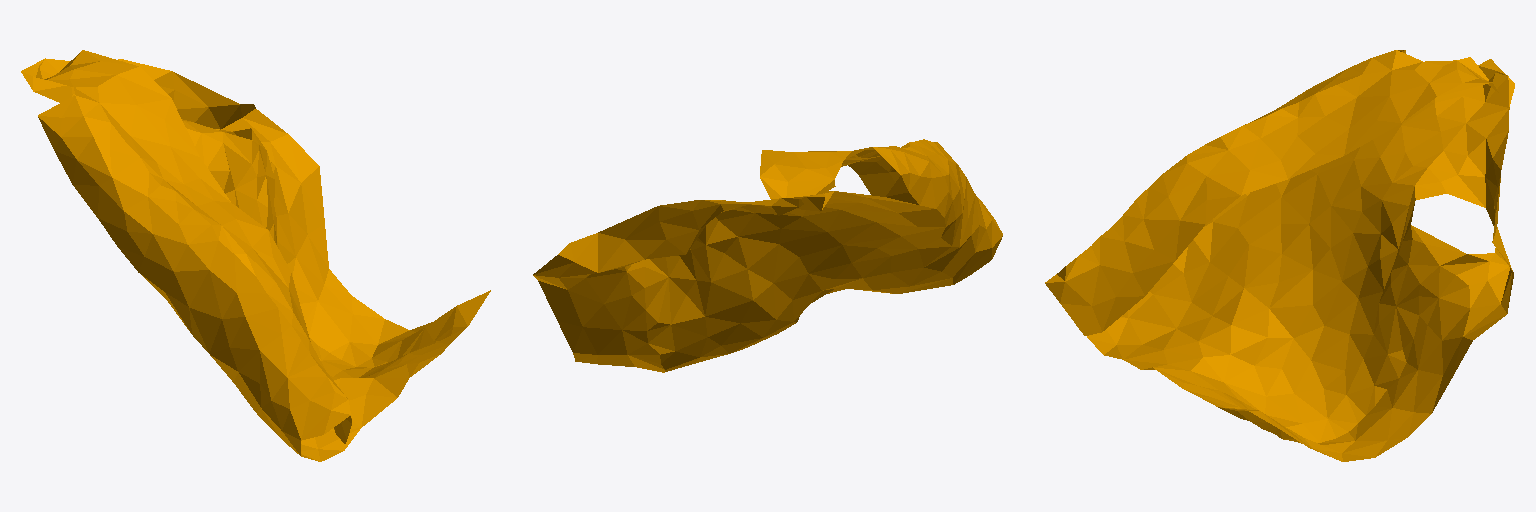
The robot description file, URDF, robot "init":
<?xml version='1.0' encoding='utf-8'?>
<robot name="init">
<link name="link_0"><inertial><mass value="1.0" /><origin rpy="0 0 0" xyz="0.000000 0.000000 0.000000" /><inertia ixx="1.0" ixy="0.0" ixz="0.0" iyy="1.0" iyz="0.0" izz="1.0" /></inertial><visual><origin rpy="0 0 0" xyz="0.000000 0.000000 0.000000" /><geometry><mesh filename="./clothHuman/cloth/1309.obj" /></geometry></visual><collision><origin rpy="0 0 0" xyz="0.000000 0.000000 0.000000" /><geometry><mesh filename="./clothHuman/cloth/1309.obj" /></geometry></collision></link></robot>

--- Render facts (derived) ---
Views: 3 orthographic renders of the robot side by side, from view 1: azimuth 30°, elevation 25°; view 2: azimuth 150°, elevation 25°; view 3: azimuth 270°, elevation 25°.
Robot: init — 1 links, 0 joints (none); root link link_0; default pose: all joints at 0.
Visible links, largest first — view 1: link_0; view 2: link_0; view 3: link_0.
Link boxes in pixels (x1,y1,x2,y2): link_0: [21, 50, 490, 461]; link_0: [533, 139, 1002, 372]; link_0: [1045, 50, 1514, 461].
Size in the robot's own frame: 3.13 by 3.67 by 2.43 metres.
1 mesh visuals loaded from 1 distinct referenced files (1 OBJ).